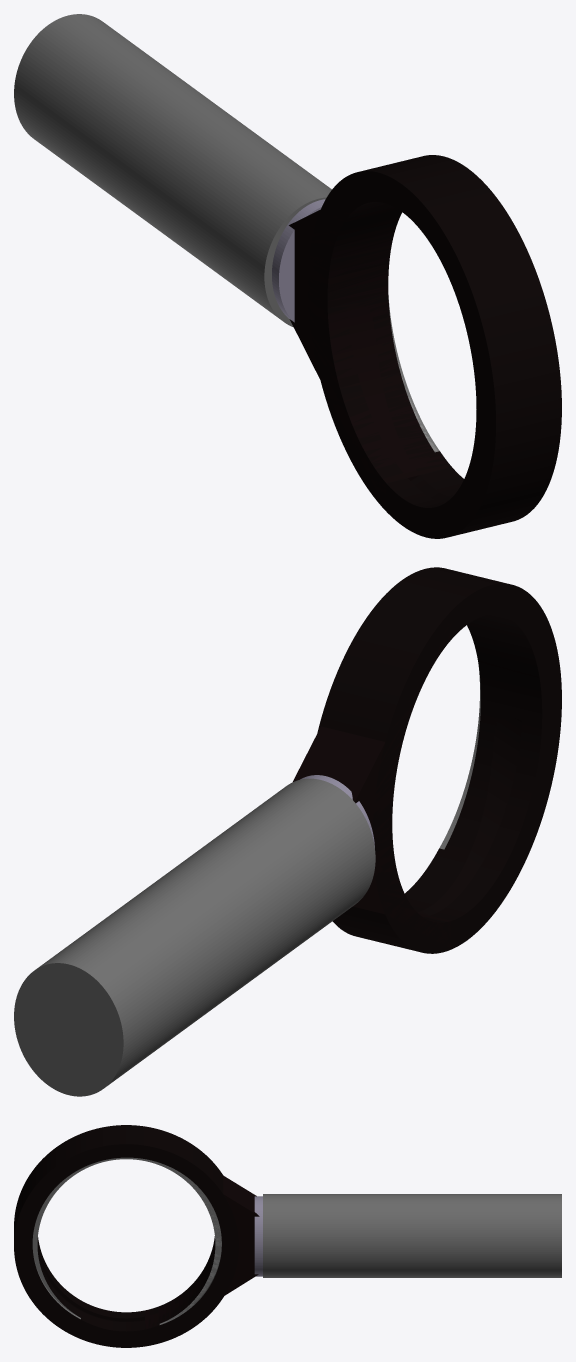
Rendered from tube_lens.obj.
3 renders of one model, top to bottom at view 1: azimuth 30°, elevation 25°; view 2: azimuth 150°, elevation 25°; view 3: azimuth 270°, elevation 25°, orthographic. The views are drawn at different scales.
Visible parts, largest first — view 1: Object.3, Object.2, Object.4, Object.1; view 2: Object.2, Object.3, Object.4; view 3: Object.2, Object.3, Object.4, Object.1.
Part boxes in pixels (x1,y1,x2,y2): Object.3: (308, 155, 561, 538); Object.2: (14, 14, 331, 327); Object.4: (289, 179, 448, 510); Object.1: (272, 199, 325, 322); Object.2: (14, 778, 375, 1096); Object.3: (317, 567, 561, 953); Object.4: (293, 614, 451, 948); Object.2: (263, 1194, 561, 1277); Object.3: (14, 1125, 238, 1347); Object.4: (144, 1159, 259, 1328); Object.1: (254, 1196, 262, 1276).
Bounding box in the file's own units: 7.11 × 21.29 × 51.9.
